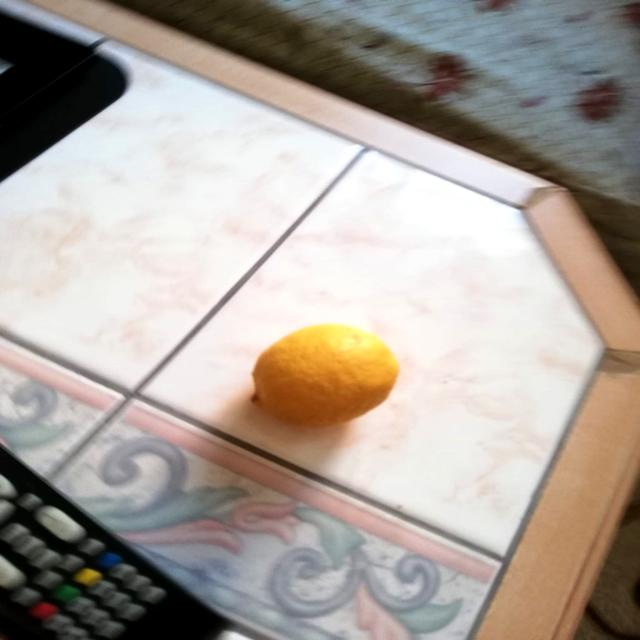lemon: (237, 320, 407, 432)
